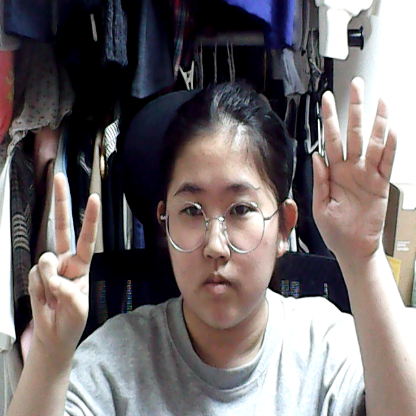Finger_2: (12, 162, 116, 354)
Finger_5: (307, 58, 411, 275)
